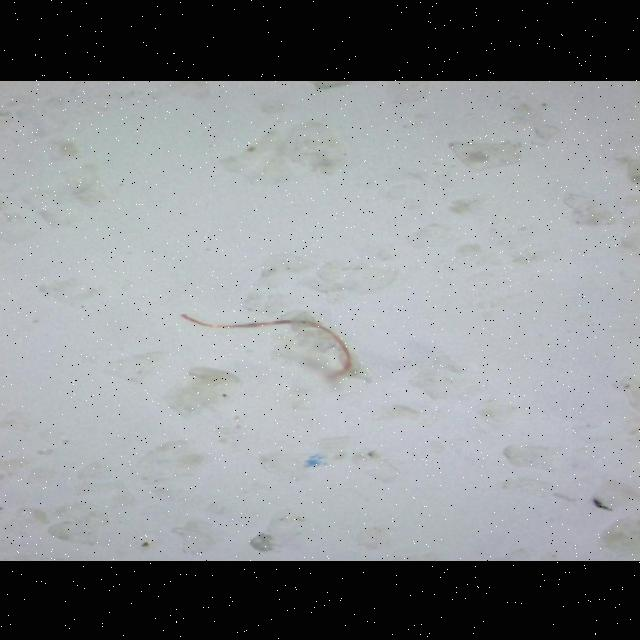Fibre: (178, 310, 380, 380)
